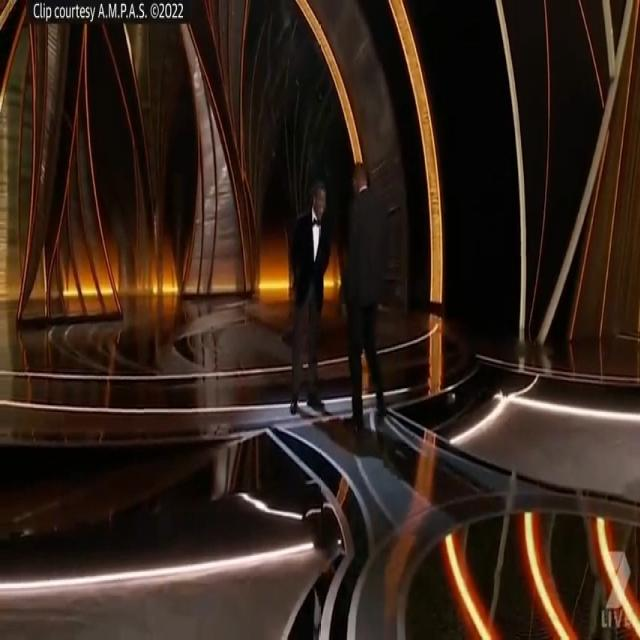non-fight: (288, 160, 407, 430)
